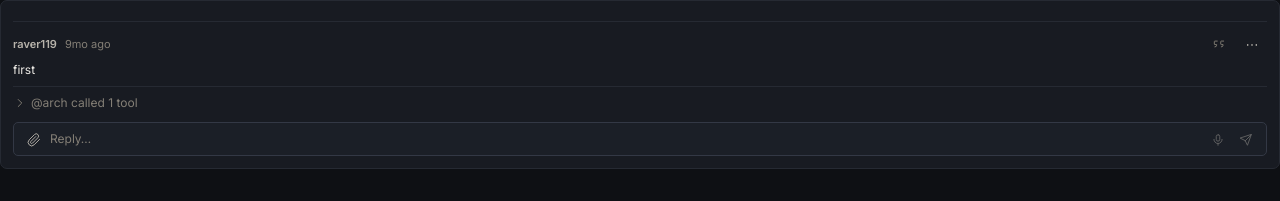
it: CTA-FR-ZBIB / CTA-FR-GCKO: the activity row at the foot › an ended turn leaves its list at the foot until the next turn starts
Click the button "@arch called 1 tool".
click(75, 103)  # box x1=13 y1=95 x2=138 y2=111
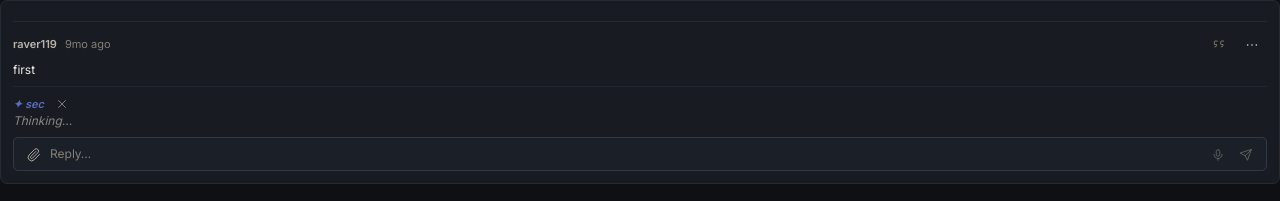
Now the element with test id "activity-row" is gone
